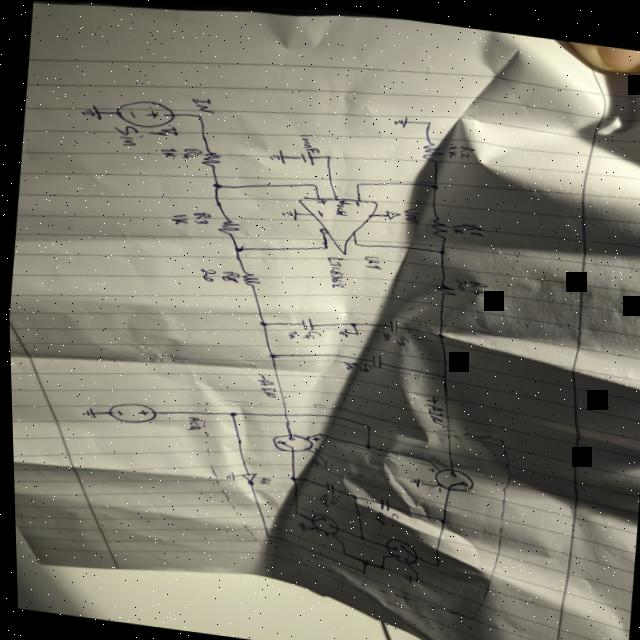capacitor: (297, 147, 315, 163), (368, 350, 383, 367), (296, 315, 313, 329), (320, 477, 333, 492), (374, 494, 387, 508), (386, 316, 397, 331)
crossover: (277, 410, 287, 416)
ground: (78, 102, 102, 119), (267, 146, 286, 162), (279, 203, 296, 219), (78, 405, 95, 418), (392, 112, 407, 125), (404, 474, 418, 485), (220, 469, 234, 479), (335, 325, 347, 336), (398, 570, 409, 580), (292, 519, 302, 530), (305, 456, 317, 465)
junction: (427, 179, 441, 187), (209, 180, 223, 188), (283, 472, 297, 480), (224, 409, 236, 416), (231, 244, 242, 251), (434, 514, 445, 521), (265, 350, 276, 357), (256, 318, 266, 325), (373, 561, 383, 568), (194, 111, 203, 118), (357, 557, 366, 564), (346, 318, 355, 325), (437, 370, 446, 377), (309, 180, 319, 186), (355, 532, 363, 539), (435, 246, 444, 252), (429, 559, 438, 565), (434, 329, 443, 335), (361, 441, 369, 447), (289, 507, 297, 513), (356, 567, 364, 573), (352, 179, 361, 184), (423, 117, 432, 122), (349, 491, 356, 497), (323, 152, 331, 157), (362, 422, 370, 427), (320, 243, 328, 248), (377, 550, 383, 556), (314, 430, 321, 435), (261, 532, 268, 537), (409, 567, 416, 572), (422, 455, 429, 460), (351, 239, 357, 244), (338, 548, 344, 553), (336, 539, 342, 544), (427, 480, 433, 485), (351, 330, 358, 334), (320, 463, 325, 468), (411, 576, 415, 580), (320, 457, 324, 460), (304, 525, 308, 528)
resistor: (419, 138, 444, 160), (214, 215, 240, 234), (428, 213, 448, 236), (199, 147, 221, 167), (239, 269, 259, 285), (432, 280, 456, 293)
source: (112, 95, 176, 130), (103, 399, 156, 425), (383, 207, 400, 219)
switch: (426, 462, 473, 491), (267, 429, 314, 454), (379, 533, 417, 563), (305, 509, 338, 536)
text: (320, 252, 347, 287), (110, 122, 144, 147), (422, 393, 448, 424), (252, 372, 276, 396), (296, 130, 321, 152), (146, 121, 178, 137), (189, 94, 215, 111), (400, 202, 421, 222), (458, 219, 484, 234), (464, 277, 488, 293), (188, 208, 211, 224), (359, 251, 381, 267), (182, 414, 201, 431), (179, 145, 202, 159), (168, 210, 188, 225), (219, 267, 238, 281), (456, 143, 475, 157), (196, 266, 215, 280), (296, 327, 320, 338), (156, 145, 177, 157), (333, 198, 349, 213), (370, 507, 383, 522), (315, 490, 328, 505), (339, 358, 357, 368), (444, 142, 457, 155), (452, 274, 465, 287), (449, 220, 464, 231), (324, 492, 338, 503), (393, 333, 408, 343), (356, 360, 371, 370), (254, 474, 269, 483), (378, 330, 391, 339), (384, 510, 397, 519), (284, 327, 295, 337), (313, 195, 326, 202), (313, 206, 323, 215), (423, 464, 433, 471), (309, 434, 317, 440), (352, 198, 360, 204), (399, 553, 405, 559), (432, 484, 439, 489), (320, 530, 326, 535), (312, 445, 316, 449), (393, 551, 397, 554), (312, 526, 316, 529)
